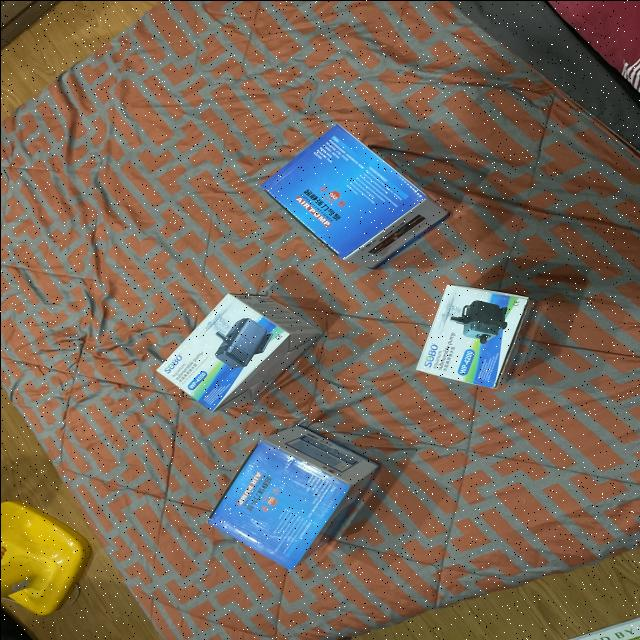SOBO_WP_4200: (149, 288, 328, 418), (408, 270, 542, 397)
YAMANO_LPP_20: (260, 110, 454, 276), (204, 422, 383, 568)
